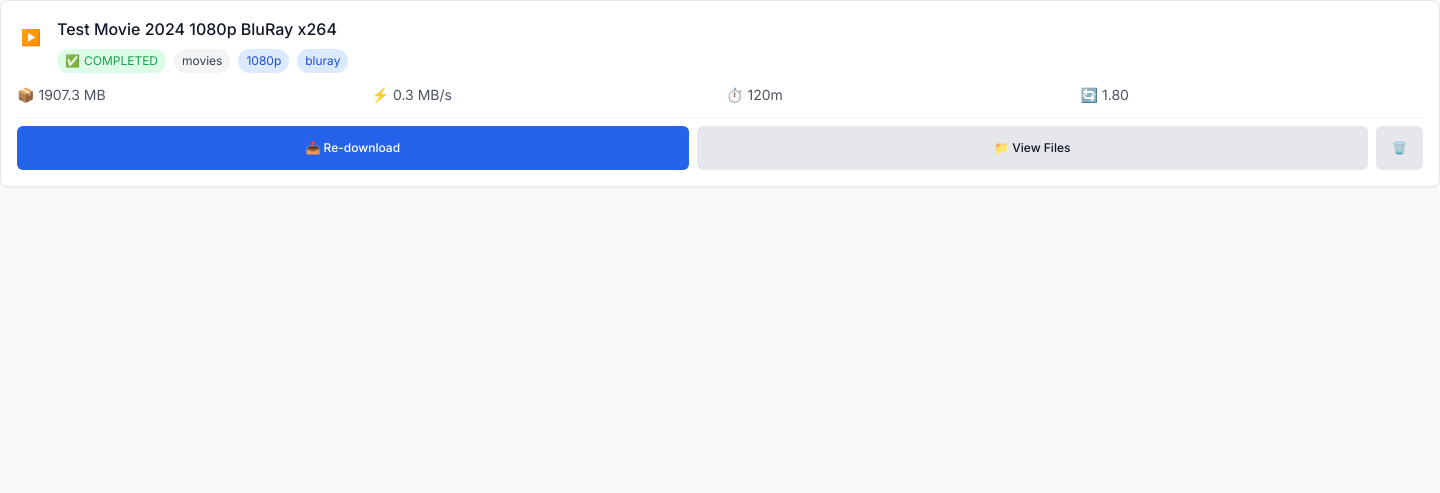
Test: FileHistoryCard › Expandable Details › should expand when clicked
Click the button "▶️".
click(31, 37)  # box [17,21,45,53]
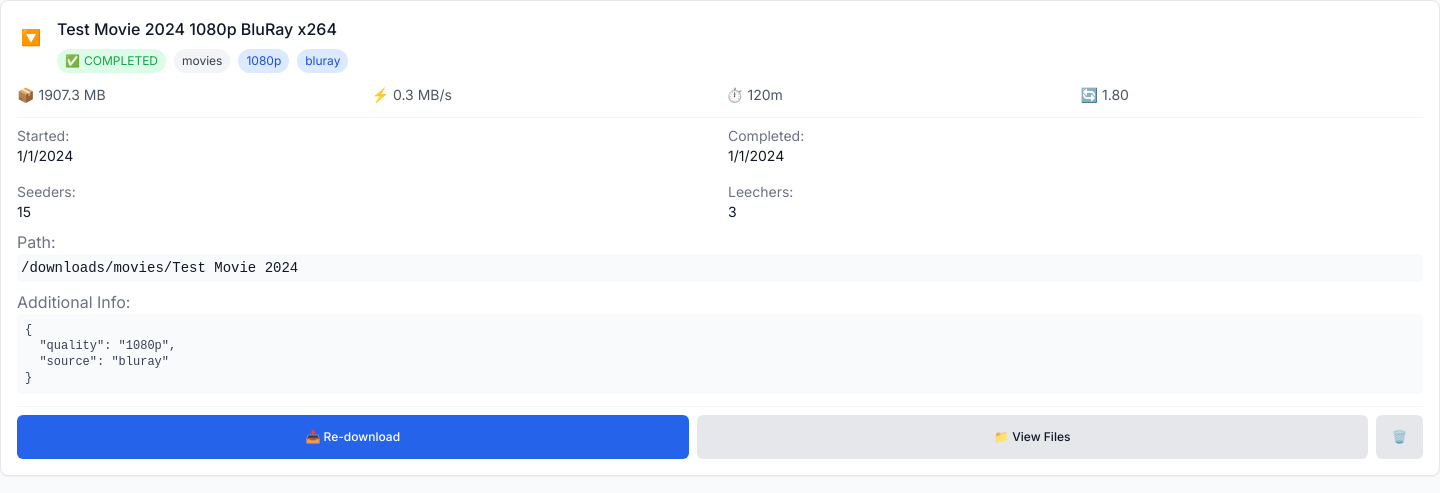
Now the text "Started:" is shown, box [17,127,69,144]
Now the text "Completed:" is shown, box [728,127,804,144]
Now the text "Seeders:" is shown, box [17,183,76,200]
